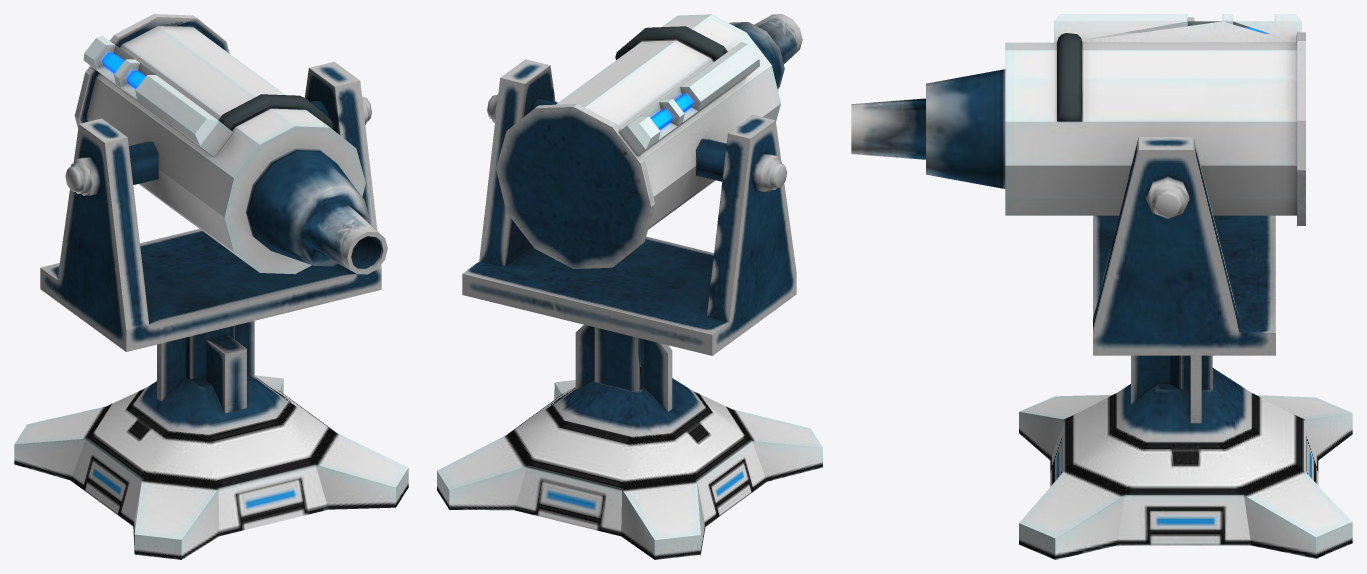
File: Turret0.gltf
3 views of the same model, side by side, from view 1: azimuth 30°, elevation 25°; view 2: azimuth 150°, elevation 25°; view 3: azimuth 270°, elevation 25° (orthographic). The views are drawn at different scales.
Visible parts, largest first — view 1: turret_0; view 2: turret_0; view 3: turret_0.
Part boxes in pixels (<box>): turret_0: <box>14,14,408,559</box>; turret_0: <box>437,14,822,559</box>; turret_0: <box>851,14,1352,559</box>.
Bounding box in the file's own units: 20.58 × 28.03 × 28.43.
1 material, 1 textured.
